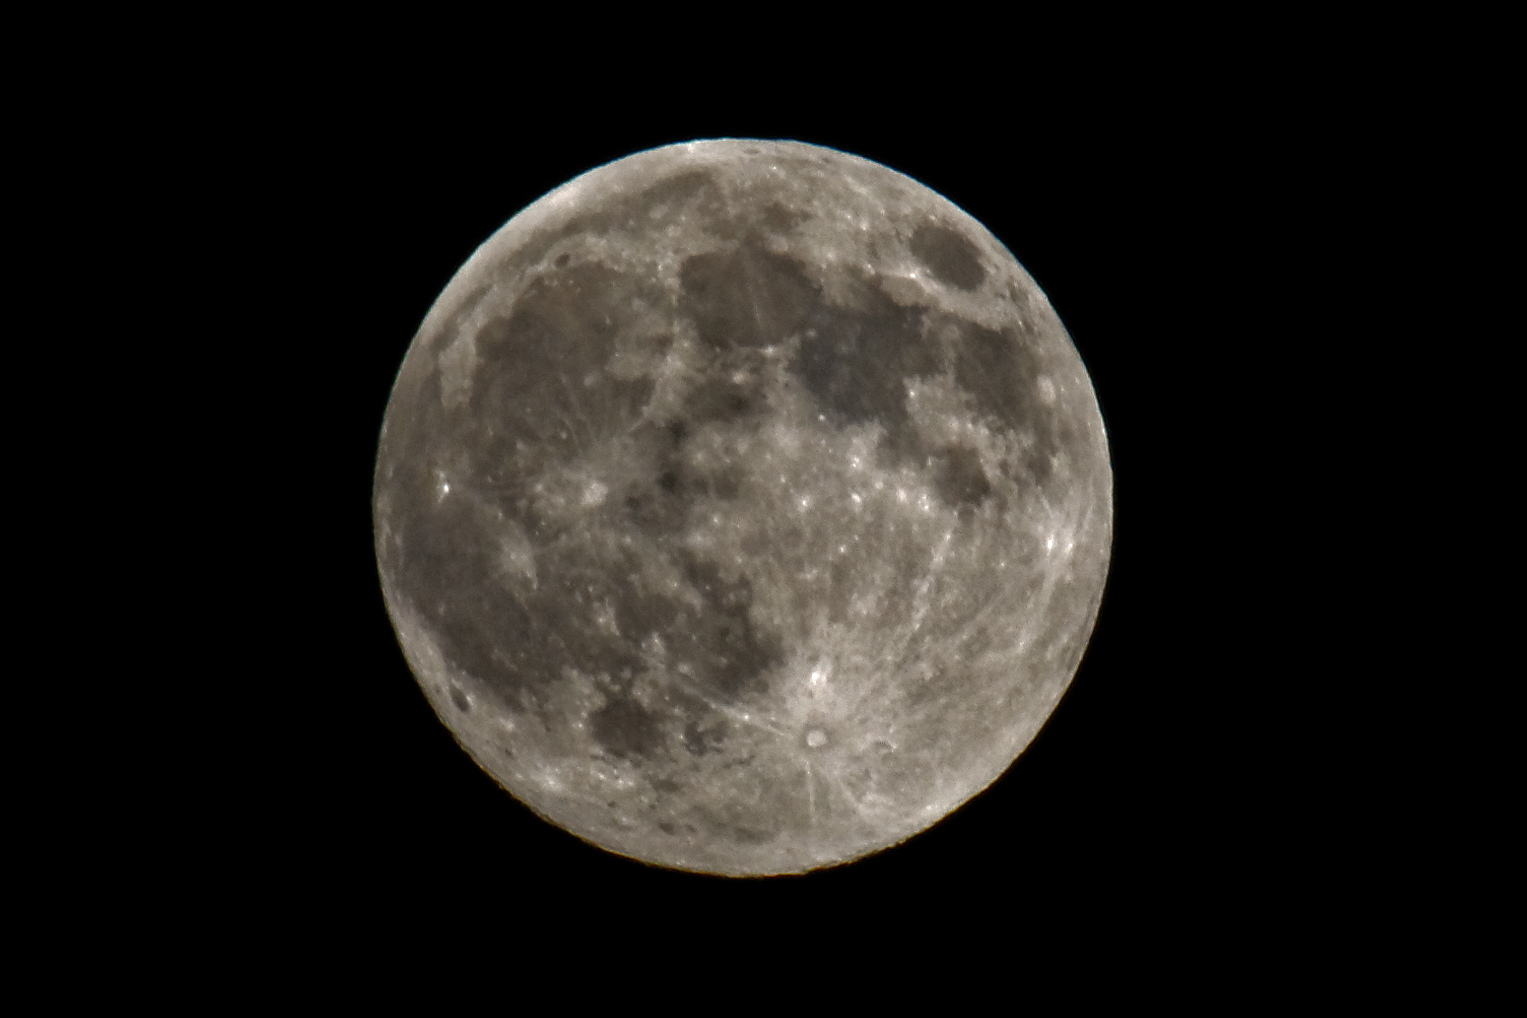crater: (414, 454, 478, 528), (790, 714, 842, 765), (571, 469, 621, 516), (535, 237, 591, 277), (442, 666, 476, 721), (896, 259, 931, 295)
